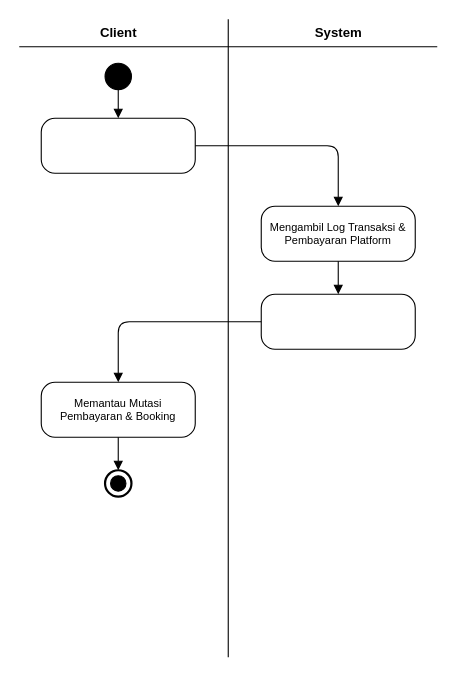
This 458x678 diagram has some shape labels left out. Each missing label, with the centre of its shape:
Akses Menu Transaksi Pemesanan /admin/bookings: point (117, 145)
Menampilkan Riwayat Transaksi Seluruh Platform: point (337, 321)
